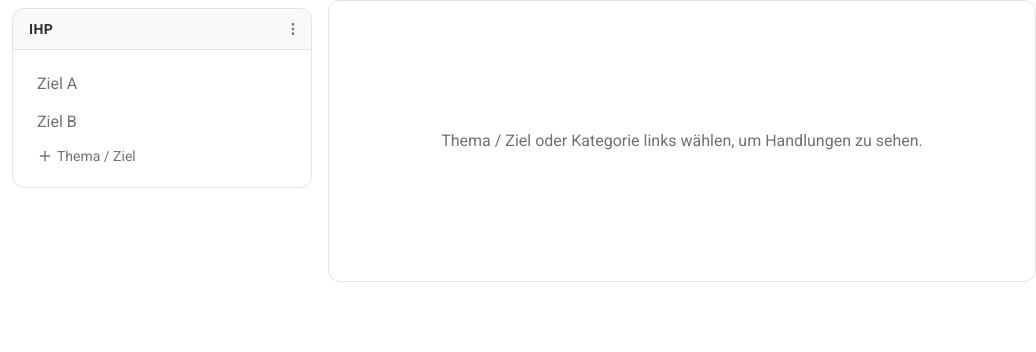
Test case: AssessmentOutline planning master-detail › wählt ein Ziel mit einem zweiten Klick wieder ab
Click the button "Ziel A" at (57, 84), box [29, 66, 295, 102]
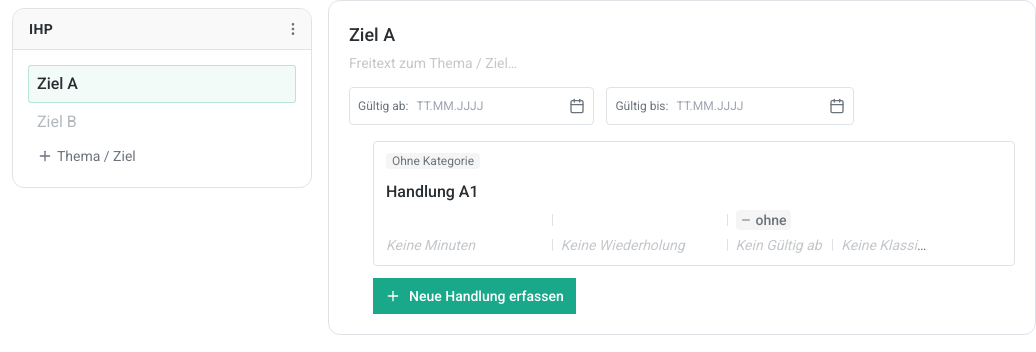
Click the button "Ziel A" at (57, 84), box [29, 66, 295, 102]
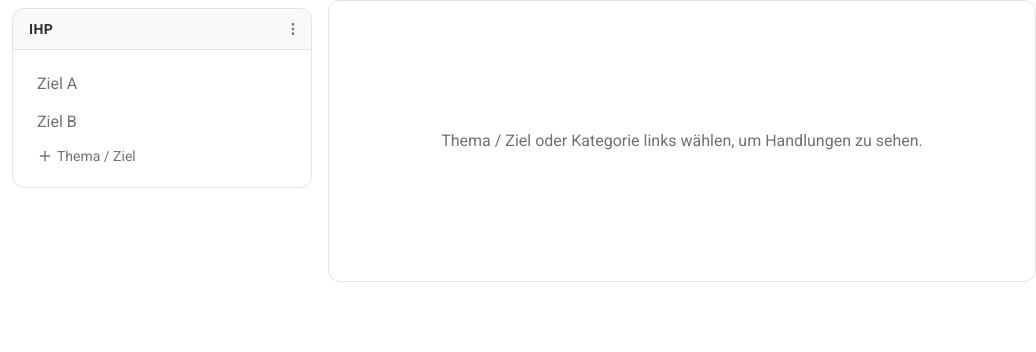
Check: the text "Handlung A1" is gone
Check: the text "links wählen" is shown, box [441, 131, 923, 150]
